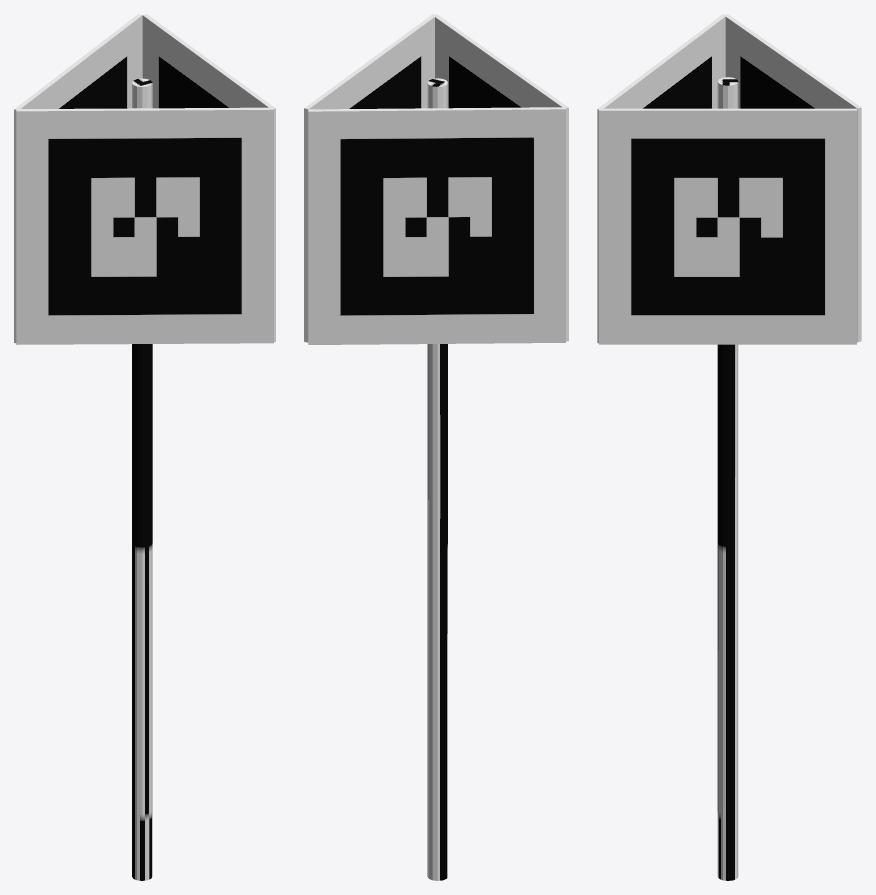
The model's file is Marker9.dae.
3 renders of one model, left to right at view 1: azimuth 30°, elevation 25°; view 2: azimuth 150°, elevation 25°; view 3: azimuth 270°, elevation 25°, orthographic.
Visible parts, largest first — view 1: Marker0; view 2: Marker0; view 3: Marker0.
Part boxes in pixels (left/top/right/bottom): Marker0: left=14, top=14, right=275, bottom=880; Marker0: left=304, top=14, right=568, bottom=880; Marker0: left=597, top=14, right=861, bottom=880.
Size of the model in its own units: 0.4433 by 0.5127 by 1.71.
